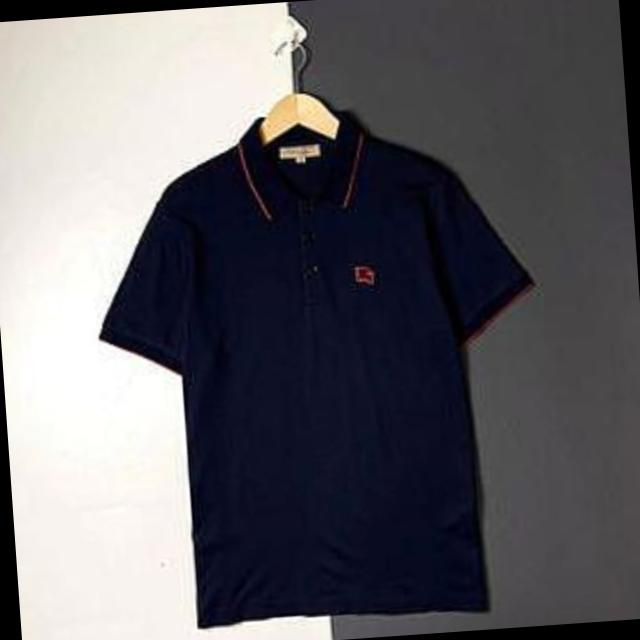T_SHIRT: (77, 84, 564, 640)
